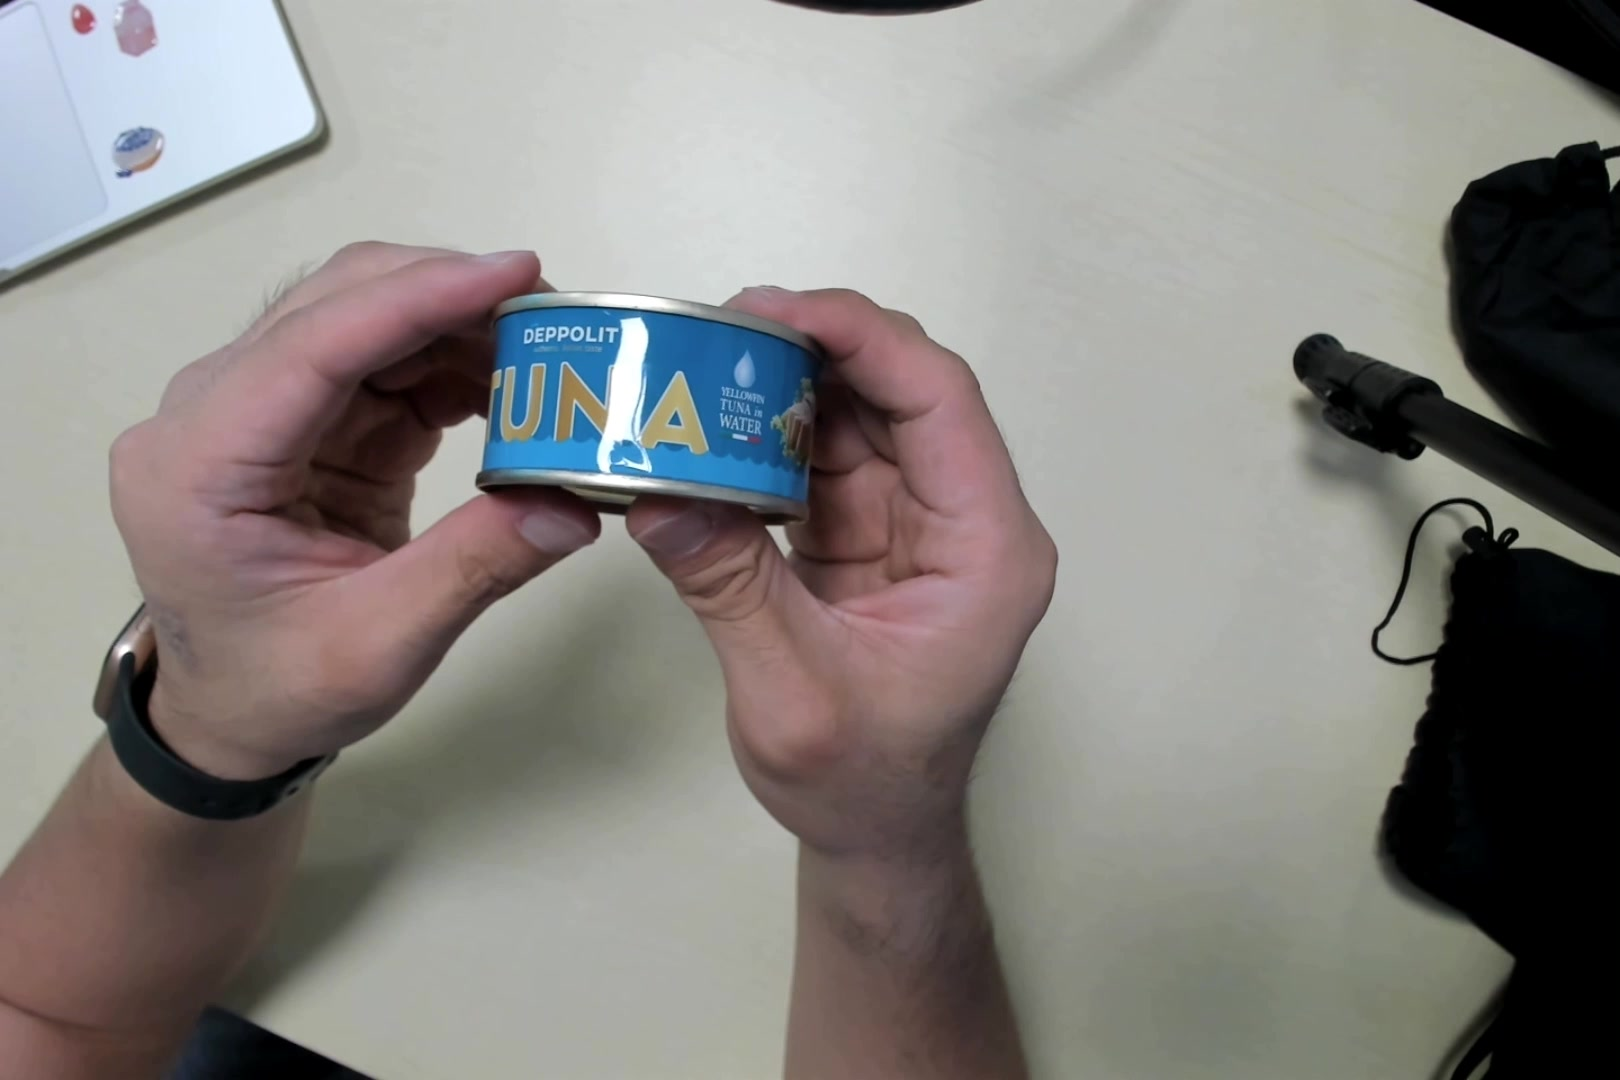CannedTunaDace_0-99g_NonHalal_NonHealthy: (463, 292, 820, 524)
